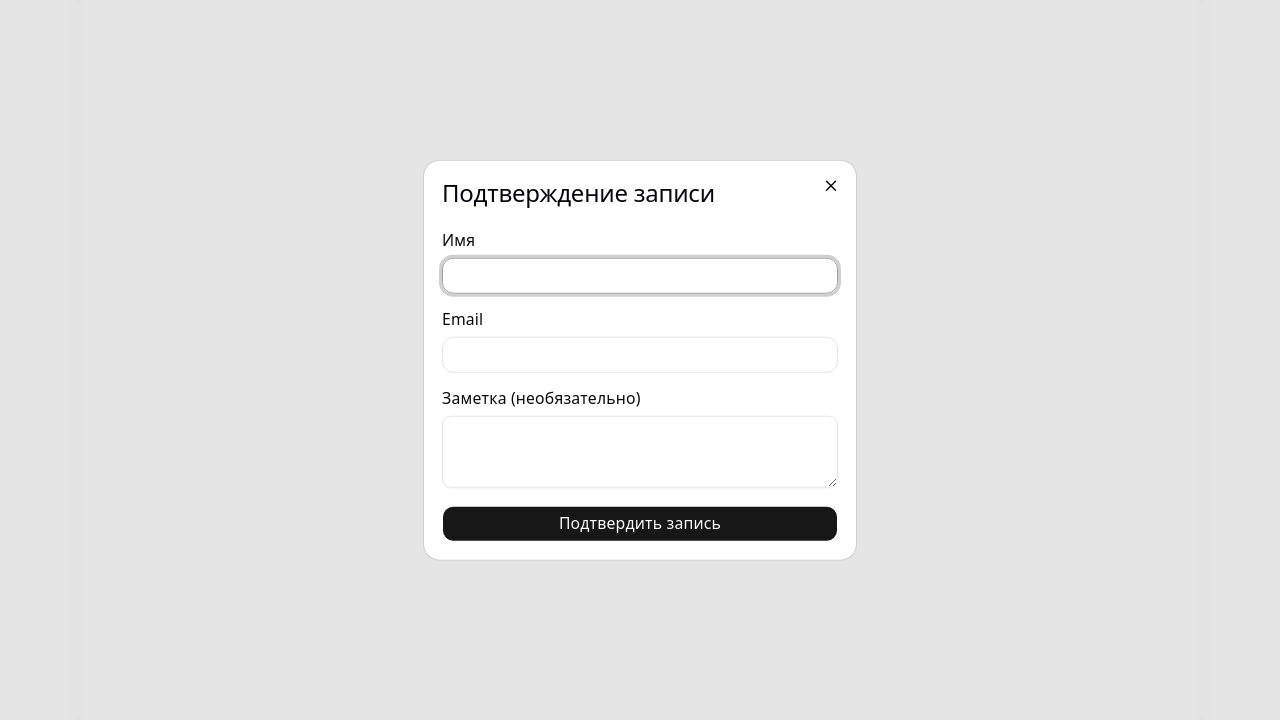
it: BookingDialog › shows a toast when the slot is already taken (409)
Type "Иван Гость" into the field labelled "Имя" at (640, 276), box [442, 258, 838, 294]
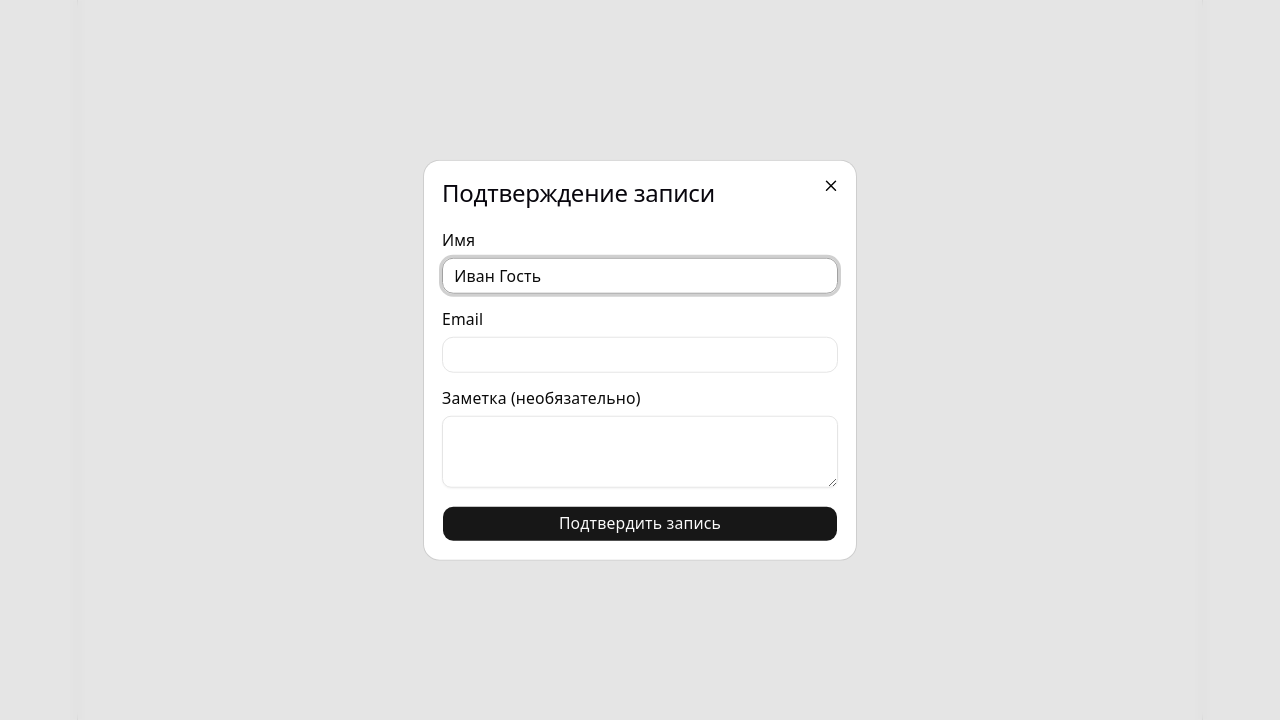
Type "ivan@example.com" into the field labelled "Email" at (640, 354), box [442, 336, 838, 372]
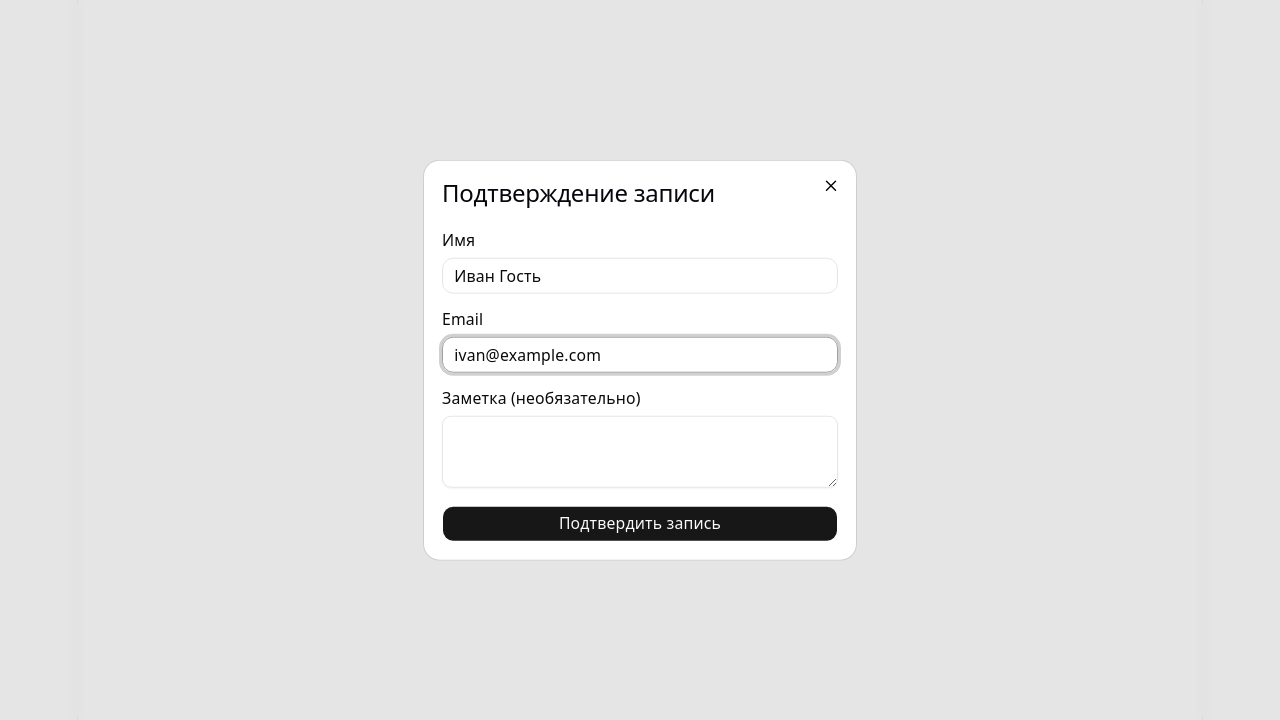
Click the button "Подтвердить запись" at (640, 523), box [442, 505, 838, 541]
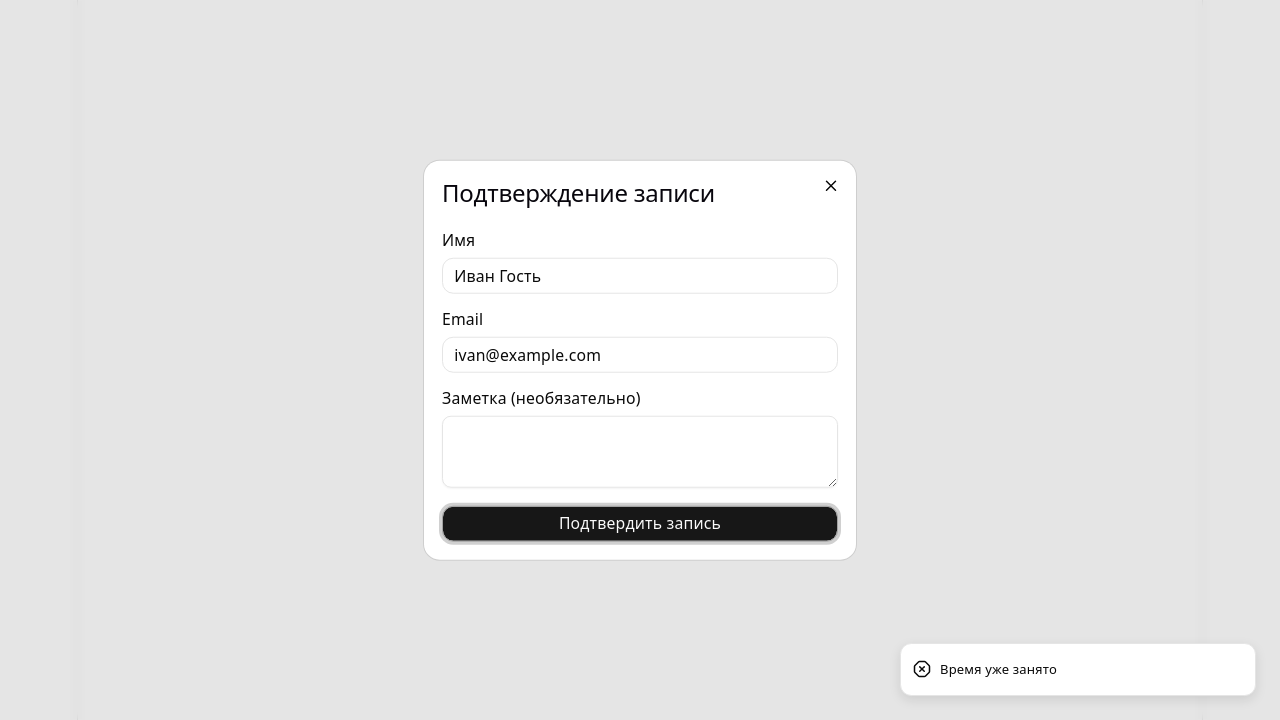
Now the text "Время уже занято" is shown, box [940, 660, 1057, 679]
